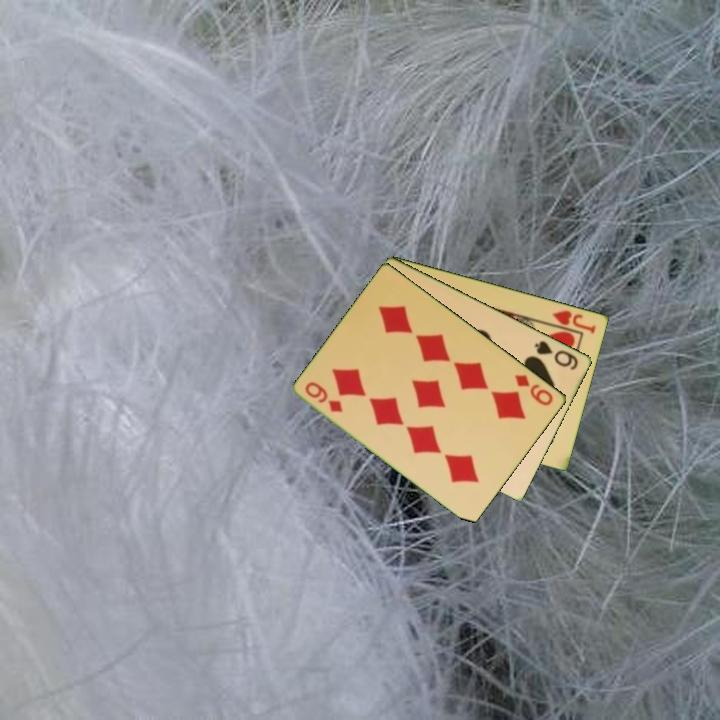6s: (531, 337, 582, 373)
9d: (512, 371, 557, 409), (302, 378, 346, 415)
Jh: (543, 306, 599, 337)
